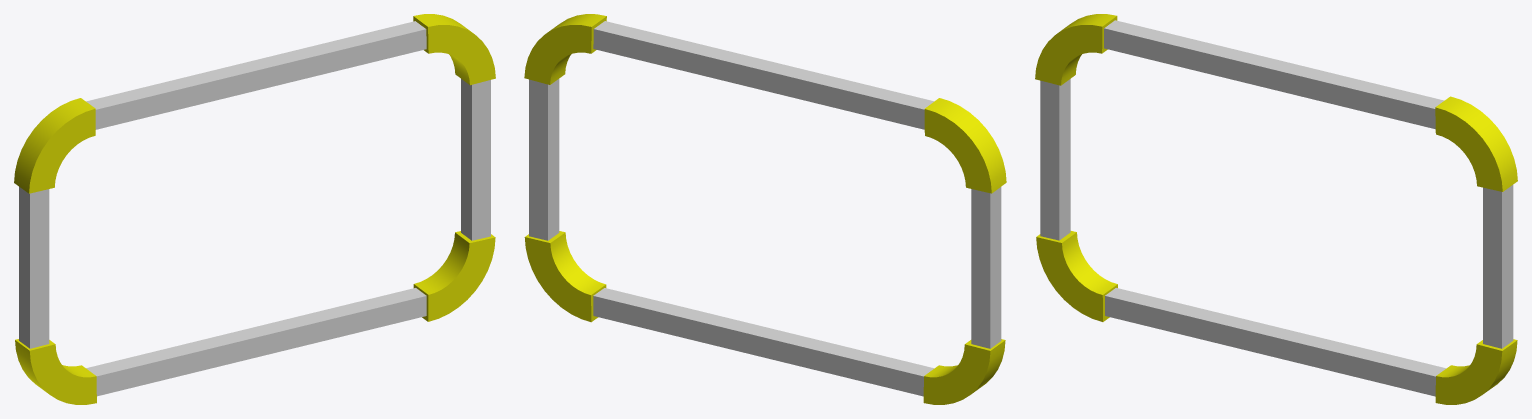
Rendered from Tablet.fbx.
3 views of the same model, side by side, from view 1: azimuth 30°, elevation 25°; view 2: azimuth 150°, elevation 25°; view 3: azimuth 330°, elevation 25° (orthographic).
Parts seen in each view (by area): view 1: pCube4, pCube2, pCube8, pCube12, pCube15, pCube14, pCube13, pCube11; view 2: pCube4, pCube2, pCube12, pCube8, pCube15, pCube14, pCube11, pCube13; view 3: pCube4, pCube2, pCube12, pCube8, pCube13, pCube11, pCube14, pCube15.
Part boxes in pixels (x1=…): pCube4: x1=86, y1=21, x2=426, y2=129; pCube2: x1=86, y1=288, x2=426, y2=396; pCube8: x1=19, y1=187, x2=49, y2=348; pCube12: x1=461, y1=79, x2=490, y2=240; pCube15: x1=14, y1=98, x2=95, y2=193; pCube14: x1=413, y1=231, x2=495, y2=321; pCube13: x1=413, y1=14, x2=495, y2=85; pCube11: x1=15, y1=339, x2=96, y2=404; pCube4: x1=593, y1=21, x2=933, y2=129; pCube2: x1=593, y1=288, x2=934, y2=396; pCube12: x1=529, y1=79, x2=559, y2=240; pCube8: x1=971, y1=187, x2=1001, y2=348; pCube15: x1=924, y1=98, x2=1006, y2=193; pCube14: x1=524, y1=231, x2=606, y2=322; pCube11: x1=923, y1=339, x2=1005, y2=404; pCube13: x1=524, y1=14, x2=606, y2=84; pCube4: x1=1104, y1=20, x2=1444, y2=129; pCube2: x1=1105, y1=288, x2=1446, y2=396; pCube12: x1=1483, y1=185, x2=1513, y2=348; pCube8: x1=1040, y1=79, x2=1070, y2=240; pCube13: x1=1435, y1=96, x2=1517, y2=191; pCube11: x1=1036, y1=231, x2=1117, y2=321; pCube14: x1=1435, y1=339, x2=1517, y2=404; pCube15: x1=1035, y1=14, x2=1117, y2=85.
Size of the model in its own units: 12.3 by 7.43 by 0.7005.
